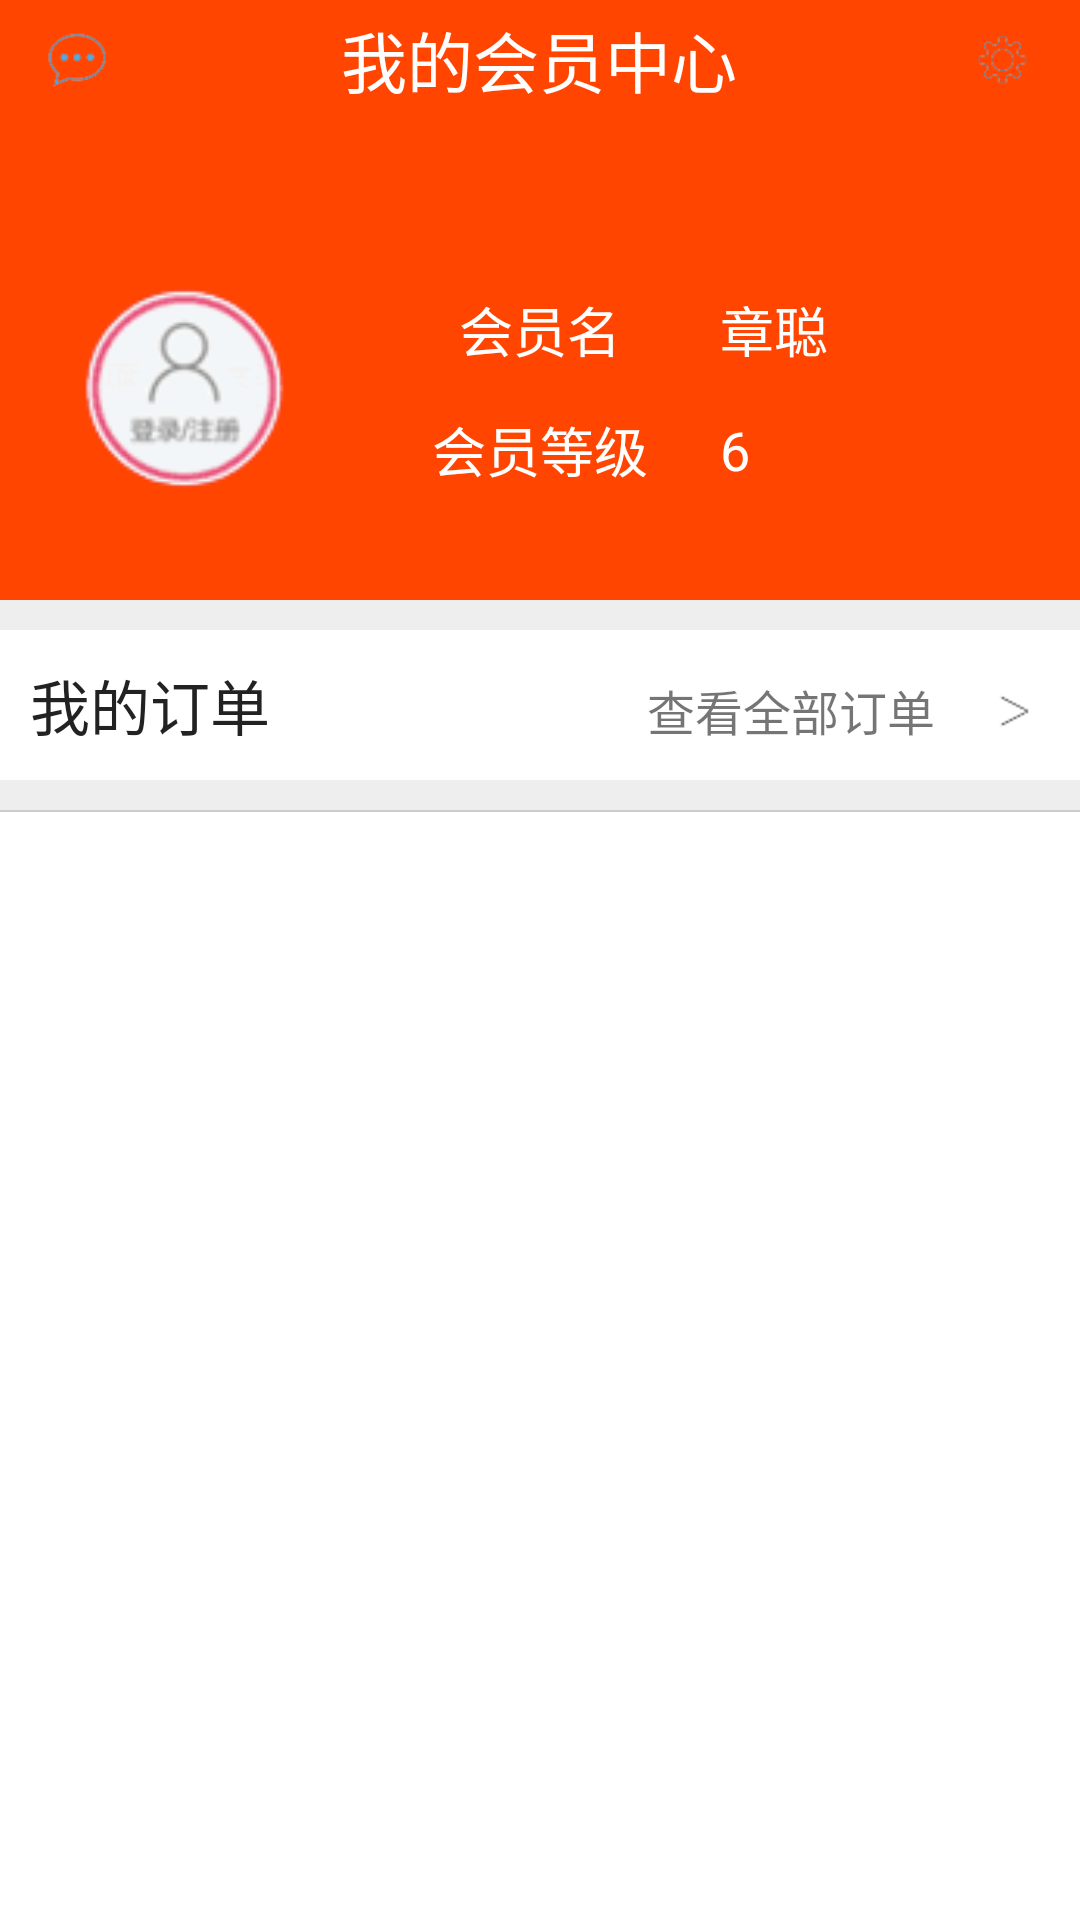

Icon bounding boxes for this 1080px x 1920px phone screenshot, format (x1, y1, x2, y2):
shezhi: (978, 36, 1027, 84)
xinxi: (48, 33, 106, 86)
